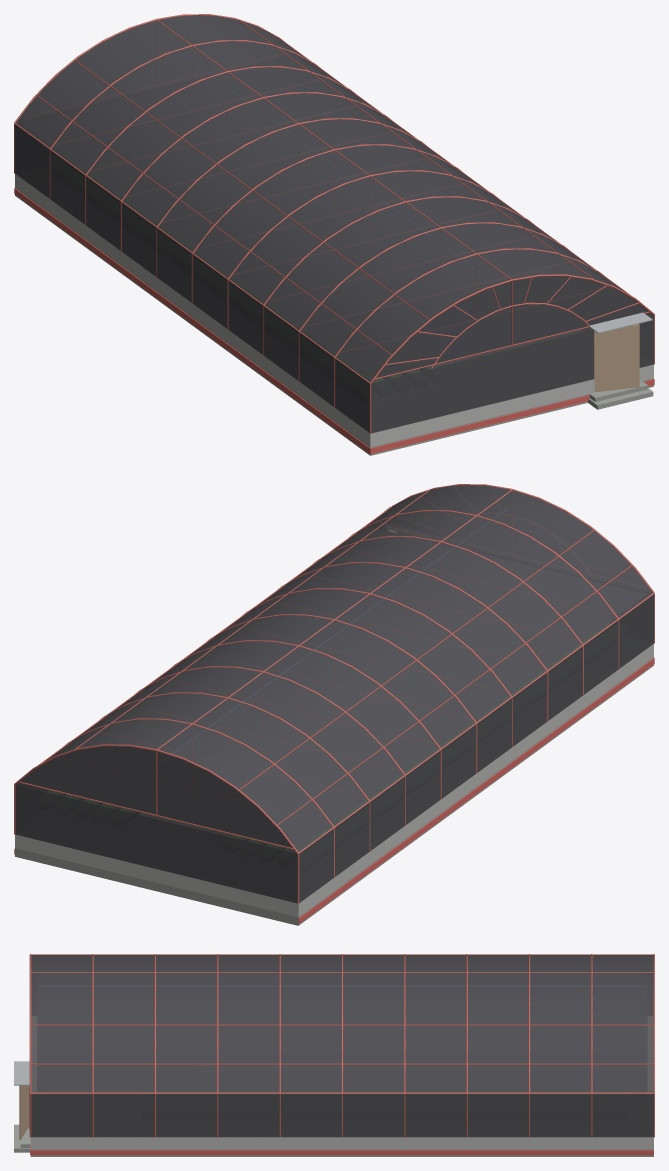
The model's file is plot17_screenhouse_4.glb.
3 views of the same model, one above another, from view 1: azimuth 30°, elevation 25°; view 2: azimuth 150°, elevation 25°; view 3: azimuth 270°, elevation 25° (orthographic). The views are drawn at different scales.
Visible parts, largest first — view 1: SH4_Batch_SH4_BlackShadeNet, SH4_Batch_SH4_OxideRedSteel, SH4_Batch_SH4_ConcreteCurb, SH4_Batch_SH4_RedFootingStripe, SH4_Batch_SH4_OxideRedDark, SH4_Batch_SH4_ConcreteFooting, SH4_Batch_SH4_WoodDoorLeaf; view 2: SH4_Batch_SH4_BlackShadeNet, SH4_Batch_SH4_OxideRedSteel, SH4_Batch_SH4_ConcreteCurb, SH4_Batch_SH4_ConcreteFooting, SH4_Batch_SH4_OxideRedDark, SH4_Batch_SH4_RedFootingStripe; view 3: SH4_Batch_SH4_BlackShadeNet, SH4_Batch_SH4_ConcreteCurb, SH4_Batch_SH4_OxideRedSteel, SH4_Batch_SH4_RedFootingStripe, SH4_Batch_SH4_OxideRedDark, SH4_Batch_SH4_ConcreteFooting, SH4_Batch_SH4_WoodDoorLeaf, SH4_Batch_SH4_CanopyHood.
Part boxes in pixels (box(x1,y1,x2,y2)): SH4_Batch_SH4_BlackShadeNet: box(14, 15, 653, 433); SH4_Batch_SH4_OxideRedSteel: box(14, 14, 654, 433); SH4_Batch_SH4_ConcreteCurb: box(15, 174, 653, 447); SH4_Batch_SH4_RedFootingStripe: box(14, 188, 654, 453); SH4_Batch_SH4_OxideRedDark: box(36, 19, 650, 379); SH4_Batch_SH4_ConcreteFooting: box(15, 187, 653, 455); SH4_Batch_SH4_WoodDoorLeaf: box(593, 324, 639, 392); SH4_Batch_SH4_BlackShadeNet: box(15, 485, 654, 903); SH4_Batch_SH4_OxideRedSteel: box(14, 484, 654, 903); SH4_Batch_SH4_ConcreteCurb: box(15, 644, 653, 917); SH4_Batch_SH4_ConcreteFooting: box(15, 657, 653, 925); SH4_Batch_SH4_OxideRedDark: box(18, 489, 647, 849); SH4_Batch_SH4_RedFootingStripe: box(14, 657, 654, 923); SH4_Batch_SH4_BlackShadeNet: box(31, 955, 654, 1137); SH4_Batch_SH4_ConcreteCurb: box(30, 1016, 653, 1149); SH4_Batch_SH4_OxideRedSteel: box(29, 954, 654, 1137); SH4_Batch_SH4_RedFootingStripe: box(30, 1145, 653, 1155); SH4_Batch_SH4_OxideRedDark: box(31, 954, 653, 1064); SH4_Batch_SH4_ConcreteFooting: box(14, 1124, 653, 1156); SH4_Batch_SH4_WoodDoorLeaf: box(19, 1085, 29, 1139); SH4_Batch_SH4_CanopyHood: box(14, 1061, 29, 1085).
Bounding box in the file's own units: 8.67 × 4.12 × 19.25.
